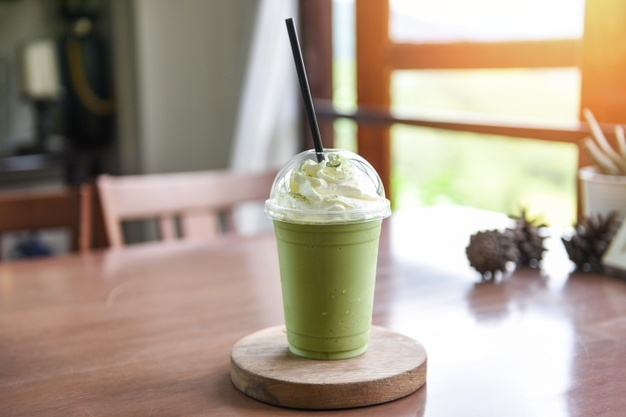plastic_glass: (261, 146, 395, 363)
